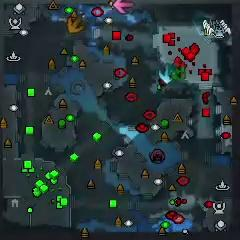x1: (114, 0, 133, 14)
x3: (159, 64, 173, 84)
x4: (171, 66, 187, 83)
x5: (66, 16, 84, 33)
